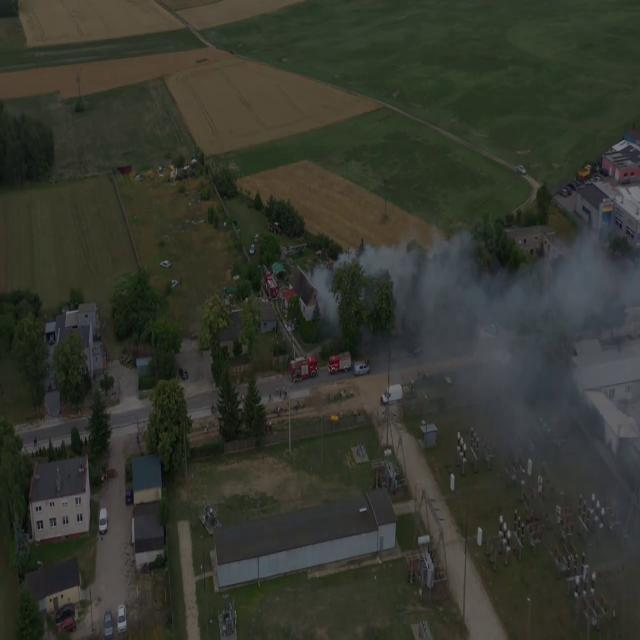Smoke: (343, 198, 635, 436), (306, 255, 342, 337)
